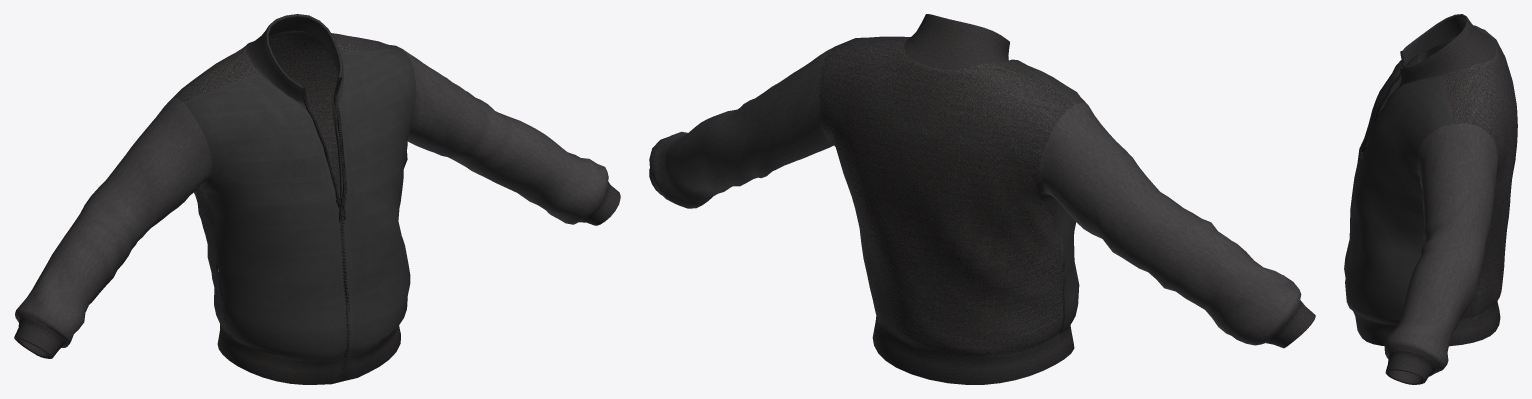
Rendered from mens_jacket.glb.
3 views of the same model, side by side, from view 1: azimuth 30°, elevation 25°; view 2: azimuth 150°, elevation 25°; view 3: azimuth 270°, elevation 25° (orthographic). The views are drawn at different scales.
Parts seen in each view (by area): view 1: Jacket_low, Zipper_low; view 2: Jacket_low; view 3: Jacket_low, Zipper_low.
Boxes of the visible parts, x1,y1,x2,y2 form: Jacket_low: [14, 14, 620, 384]; Zipper_low: [301, 77, 346, 198]; Jacket_low: [649, 14, 1315, 384]; Jacket_low: [1344, 14, 1517, 384]; Zipper_low: [1362, 51, 1404, 155].
Bounding box in the file's own units: 5.52 × 2.85 × 1.47.
Materials: 1 (1 with a texture image).
